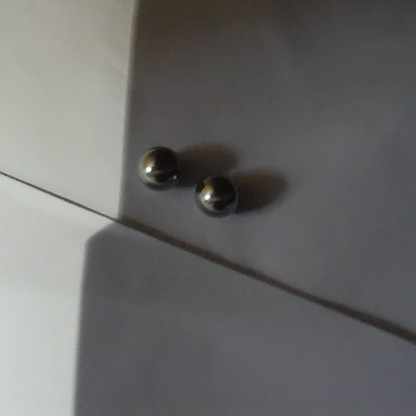ironball: (137, 143, 184, 190), (194, 172, 241, 218)
